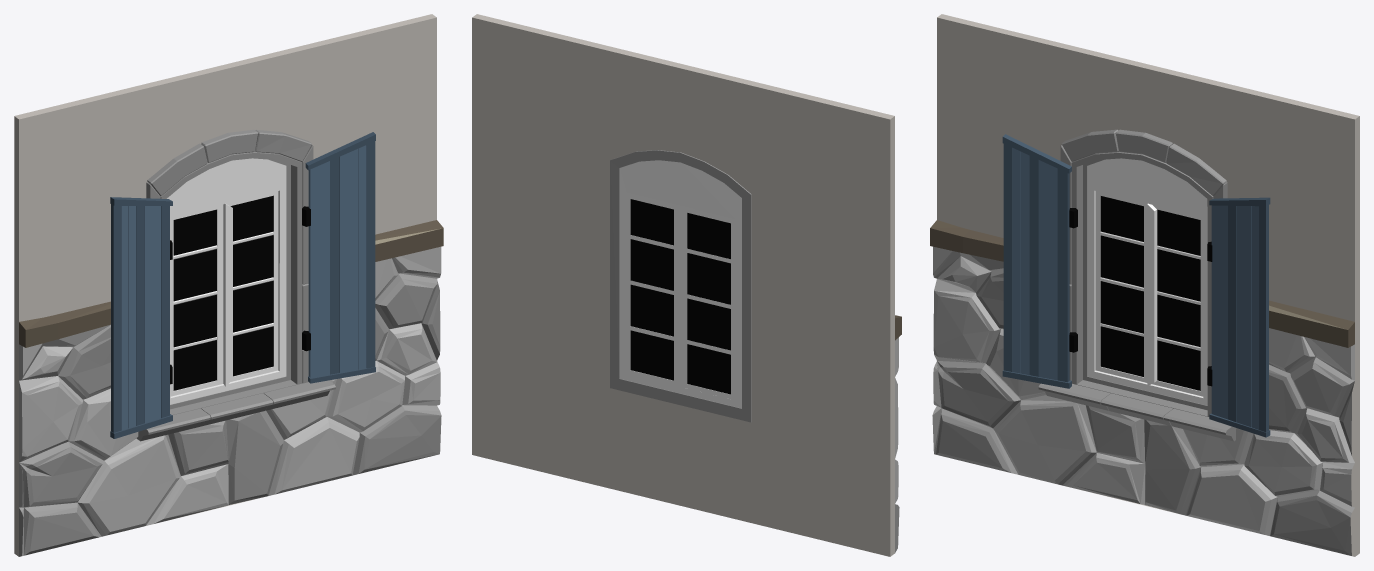
File: _WINDOW_06_1.fbx
The picture shows the model from 3 angles, left to right: view 1: azimuth 30°, elevation 25°; view 2: azimuth 150°, elevation 25°; view 3: azimuth 330°, elevation 25°; orthographic projection.
Visible parts, largest first — view 1: WINDOW_06_1; view 2: WINDOW_06_1; view 3: WINDOW_06_1.
Part boxes in pixels (bbox=[...]): WINDOW_06_1: bbox=[14, 14, 443, 556]; WINDOW_06_1: bbox=[472, 14, 901, 556]; WINDOW_06_1: bbox=[930, 14, 1359, 556].
Size of the model in its own units: 300 by 300 by 25.08.
